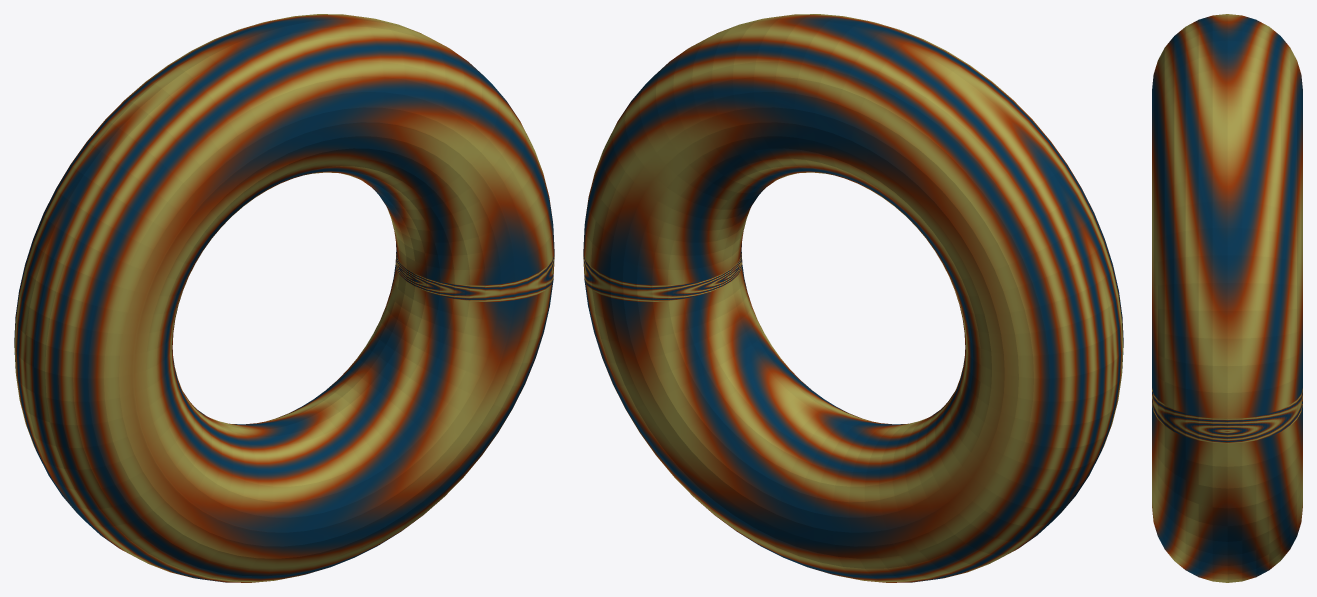
Rendered from torus-sunset-c1.glb.
3 views of the same model, side by side, from view 1: azimuth 30°, elevation 25°; view 2: azimuth 150°, elevation 25°; view 3: azimuth 270°, elevation 25° (orthographic). The views are drawn at different scales.
Parts seen in each view (by area): view 1: world; view 2: world; view 3: world.
Part boxes in pixels (<box>): world: <box>14,14,554,582</box>; world: <box>583,14,1123,582</box>; world: <box>1152,14,1302,582</box>.
Size of the model in its own units: 1.36 by 1.36 by 0.36.
Materials: 1 (1 with a texture image).
